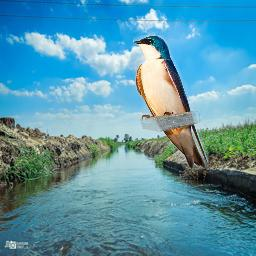Swallow: (133, 35, 209, 169)
